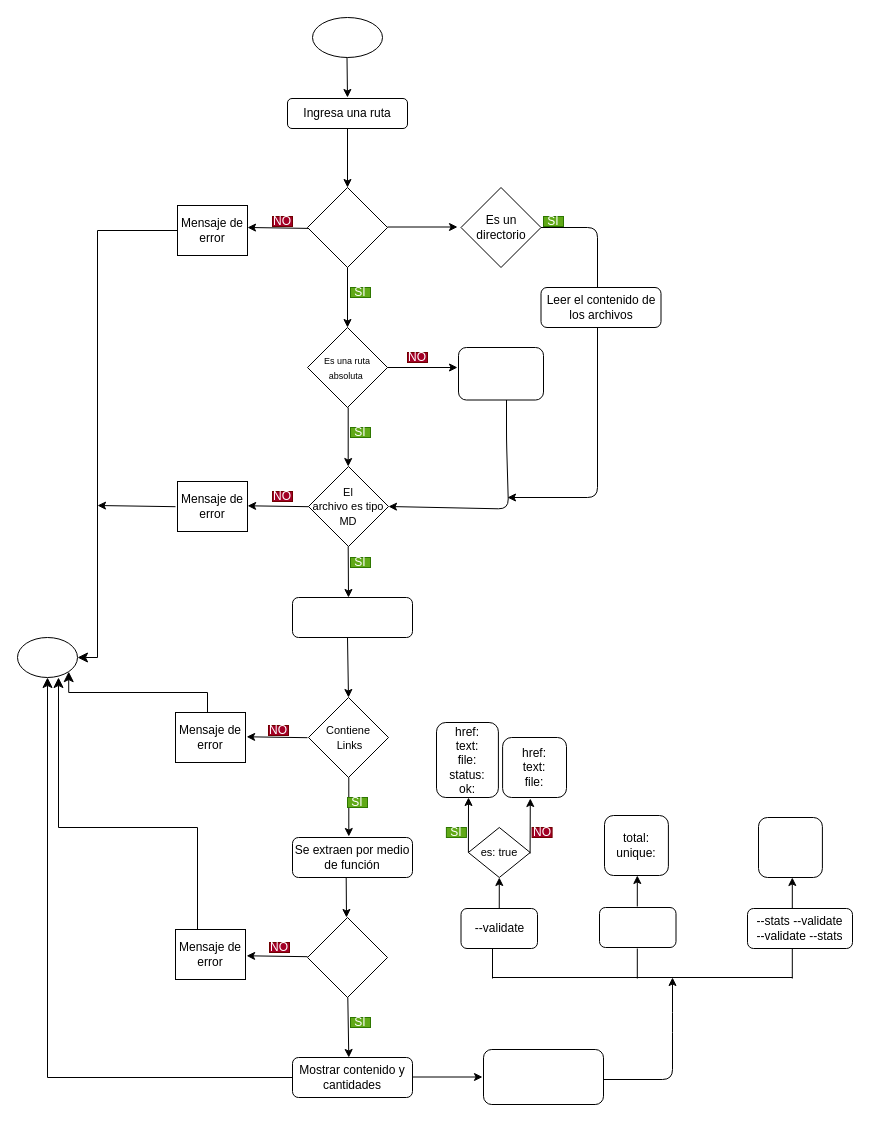
Some shapes in this 870 by 1122 pixel diagram are drawn without their labels. Here are the shapes that lost their labels. From the top down, the centre of each, then its label:
(x=347, y=37): INICIO
(x=347, y=227): La ruta existe
(x=501, y=373): Cambiarlo a ruta absoluta
(x=352, y=617): Leer el archivo
(x=47, y=657): FIN
(x=790, y=847): total: unique: broken:
(x=637, y=927): --stats
(x=347, y=957): Son links válidos
(x=543, y=1076): Linea de comandos a ejecutar en la terminal
